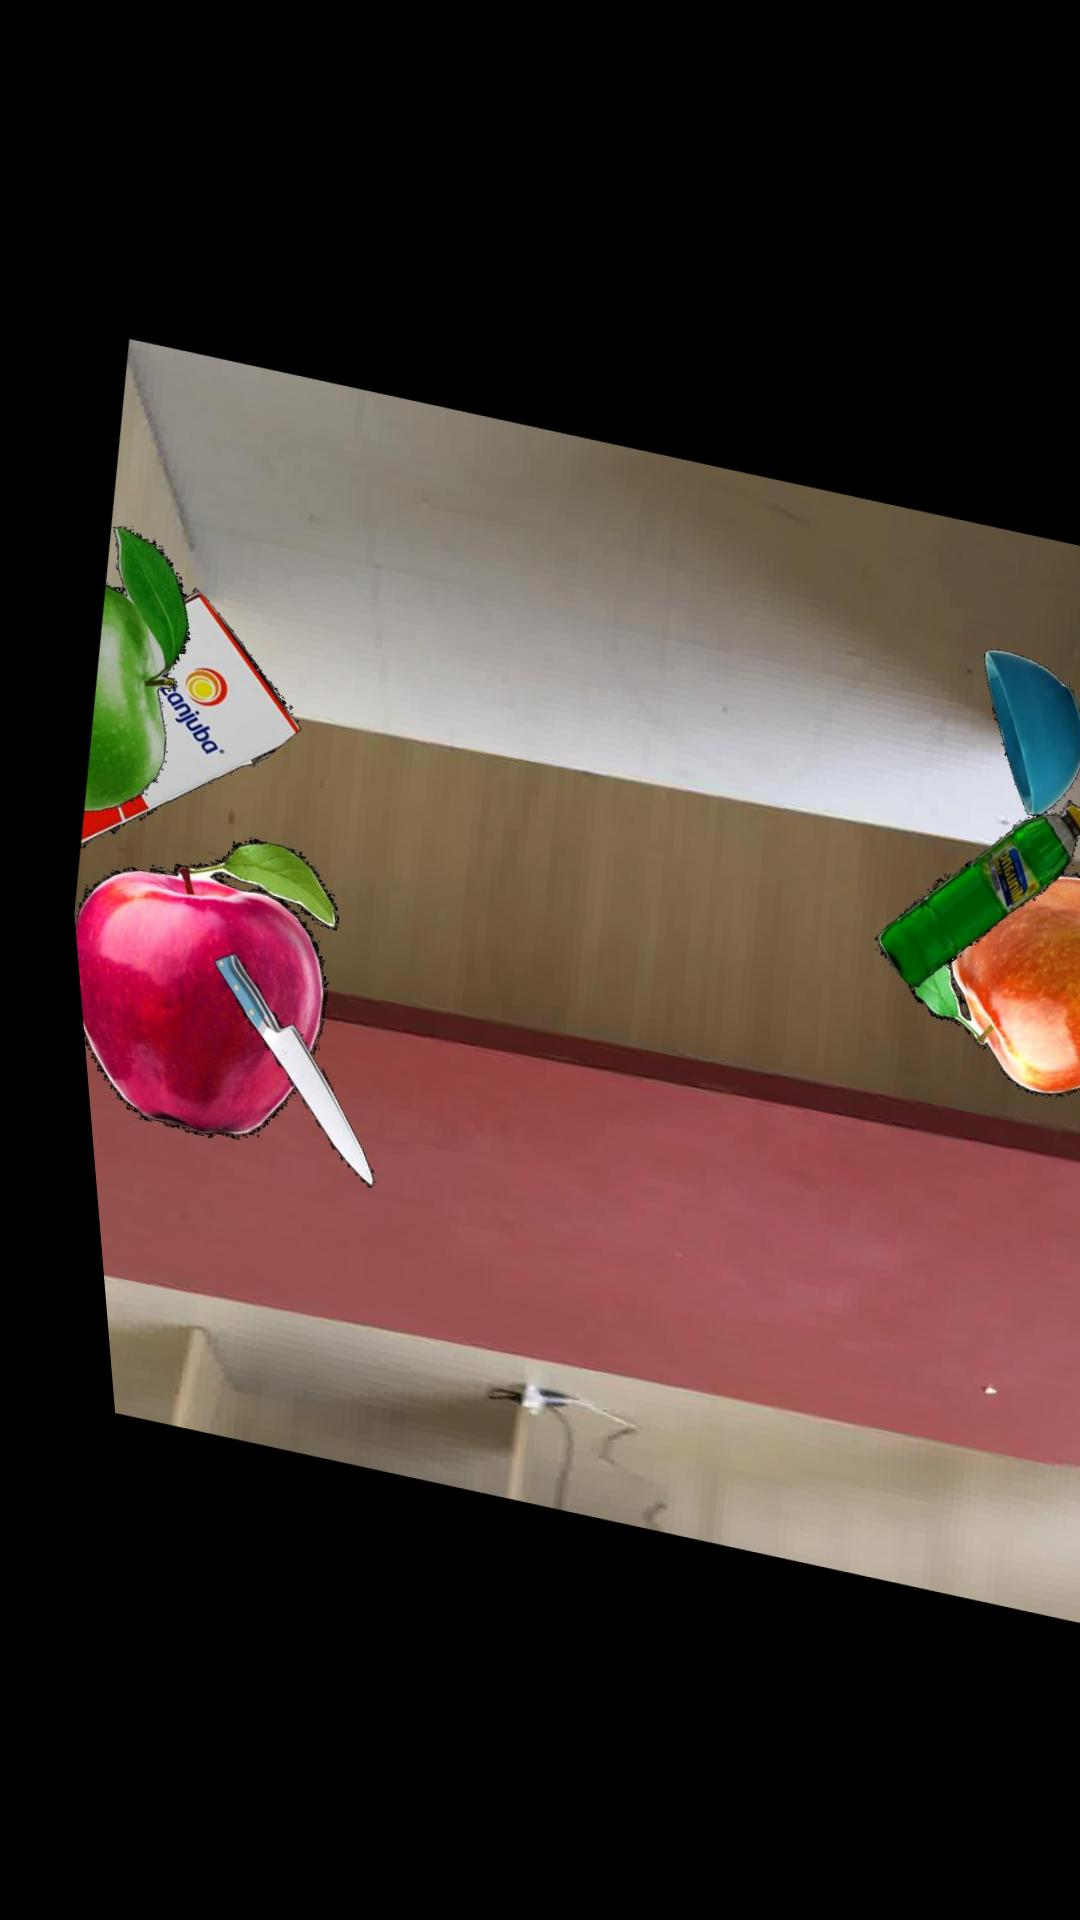apple: (59, 836, 324, 1137), (895, 861, 1080, 1087)
bowl: (975, 640, 1076, 804)
cleaner: (862, 791, 1080, 978)
green apple: (70, 525, 179, 811)
knife: (198, 949, 355, 1184)
